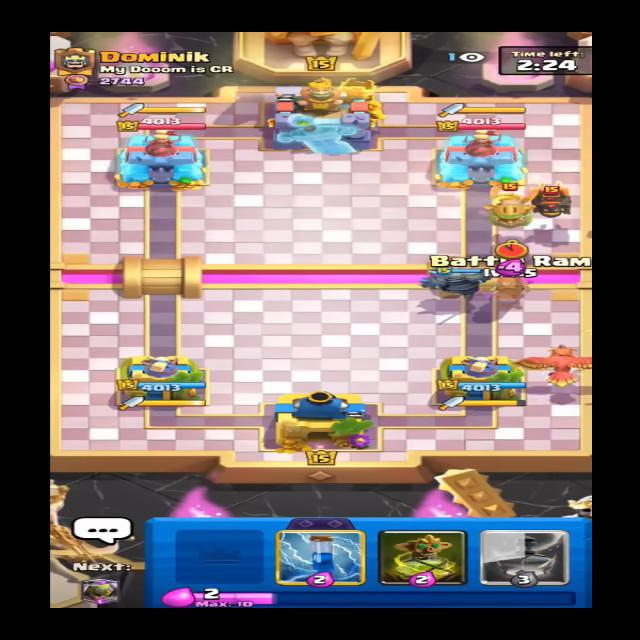inferno-dragon: (482, 182, 538, 230)
lava-hound: (518, 177, 592, 220)
